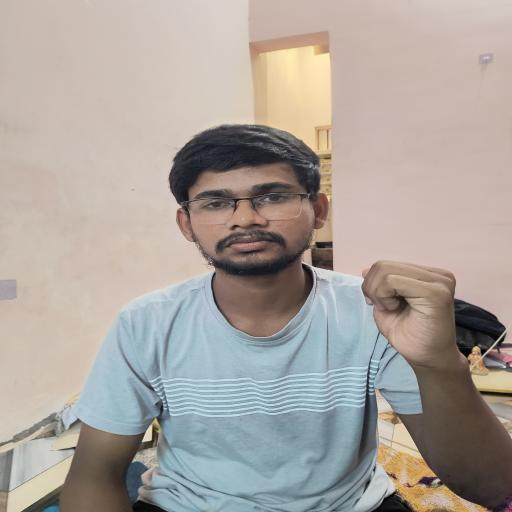wait: (342, 243, 492, 374)
